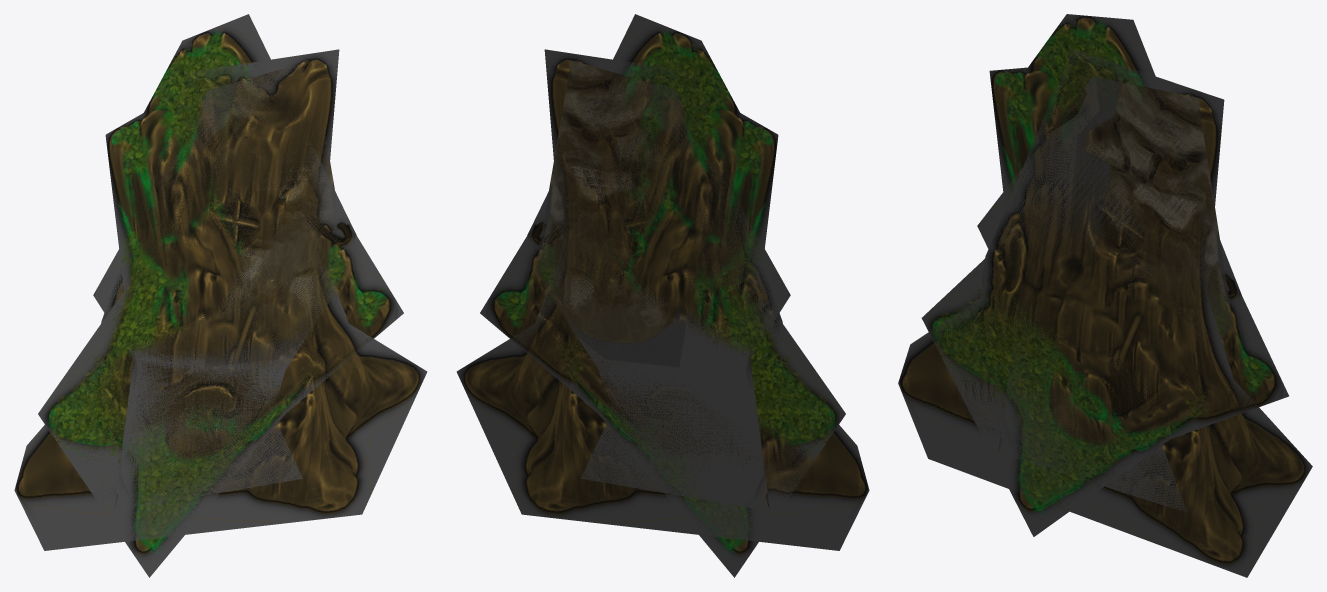
File: Stumps_Mesh.fbx
The picture shows the model from 3 angles, left to right: view 1: azimuth 30°, elevation 25°; view 2: azimuth 150°, elevation 25°; view 3: azimuth 330°, elevation 25°; orthographic projection.
Parts seen in each view (by area): view 1: Stump_03, Stump_01, Stump_02; view 2: Stump_01, Stump_03, Stump_02; view 3: Stump_03, Stump_01, Stump_02.
Part boxes in pixels (x1,y1,x2,y2): Stump_03: [14, 49, 427, 550]; Stump_01: [38, 14, 403, 577]; Stump_02: [93, 62, 347, 510]; Stump_01: [480, 14, 845, 577]; Stump_03: [456, 49, 869, 550]; Stump_02: [535, 60, 790, 510]; Stump_03: [898, 49, 1312, 577]; Stump_01: [921, 14, 1288, 536]; Stump_02: [977, 76, 1233, 512].
Size of the model in its own units: 143 by 179 by 1.06e-13.
Materials: 1 (1 with a texture image).
